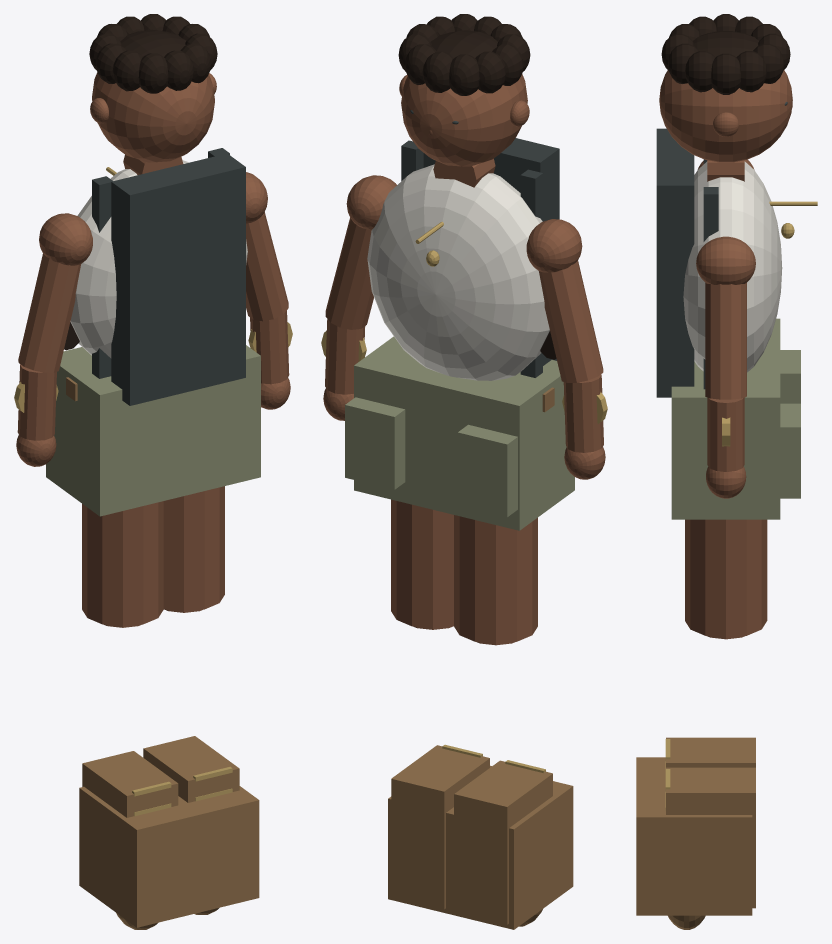
The model's file is male_belizean_simulated.glb.
3 renders of one model, left to right at view 1: azimuth 30°, elevation 25°; view 2: azimuth 150°, elevation 25°; view 3: azimuth 270°, elevation 25°, orthographic. The views are drawn at different scales.
Visible parts, largest first — view 1: backpack, cargo_shorts, L_boot_sole, L_thigh, head, R_thigh, R_boot_sole, torso, L_upperarm, L_boot_upper, R_boot_upper, R_upperarm (+14 smaller); view 2: torso, cargo_shorts, L_thigh, L_boot_upper, R_boot_upper, head, L_boot_sole, R_thigh, cargo_pocket_-0.34, cargo_pocket_0.34, L_upperarm, R_upperarm (+17 smaller); view 3: R_boot_sole, cargo_shorts, torso, R_thigh, backpack, head, R_upperarm, R_boot_upper, L_boot_upper, R_forearm, R_shoulder, cargo_pocket_0.34 (+15 smaller).
Part boxes in pixels (left/top/right/bottom): backpack: left=111, top=153, right=245, bottom=405; cargo_shorts: left=46, top=345, right=260, bottom=516; L_boot_sole: left=79, top=786, right=197, bottom=927; L_thigh: left=82, top=501, right=163, bottom=626; head: left=92, top=72, right=214, bottom=162; R_thigh: left=163, top=486, right=224, bottom=611; R_boot_sole: left=178, top=786, right=259, bottom=912; torso: left=70, top=160, right=247, bottom=358; L_upperarm: left=18, top=253, right=80, bottom=372; L_boot_upper: left=82, top=751, right=178, bottom=817; R_boot_upper: left=143, top=736, right=239, bottom=802; R_upperarm: left=246, top=212, right=288, bottom=321; torso: left=367, top=164, right=549, bottom=380; cargo_shorts: left=354, top=336, right=574, bottom=530; L_thigh: left=454, top=515, right=537, bottom=643; L_boot_upper: left=454, top=760, right=552, bottom=924; R_boot_upper: left=391, top=745, right=489, bottom=909; head: left=401, top=74, right=527, bottom=166; L_boot_sole: left=451, top=781, right=573, bottom=929; R_thigh: left=391, top=499, right=453, bottom=628; cargo_pocket_-0.34: left=457, top=424, right=517, bottom=517; cargo_pocket_0.34: left=345, top=397, right=405, bottom=489; L_upperarm: left=539, top=260, right=603, bottom=382; R_upperarm: left=325, top=218, right=373, bottom=329; R_boot_sole: left=636, top=787, right=752, bottom=915; cargo_shorts: left=671, top=318, right=780, bottom=519; torso: left=683, top=161, right=782, bottom=372; R_thigh: left=685, top=519, right=767, bottom=638; backpack: left=656, top=128, right=694, bottom=397; head: left=659, top=70, right=792, bottom=162; R_upperarm: left=705, top=282, right=746, bottom=399; R_boot_upper: left=666, top=767, right=755, bottom=908; L_boot_upper: left=666, top=737, right=755, bottom=767; R_forearm: left=707, top=397, right=744, bottom=471; R_shoulder: left=696, top=236, right=755, bottom=284; cargo_pocket_0.34: left=780, top=403, right=800, bottom=498.
Size of the model in its own units: 1.7 by 5.17 by 0.97.
